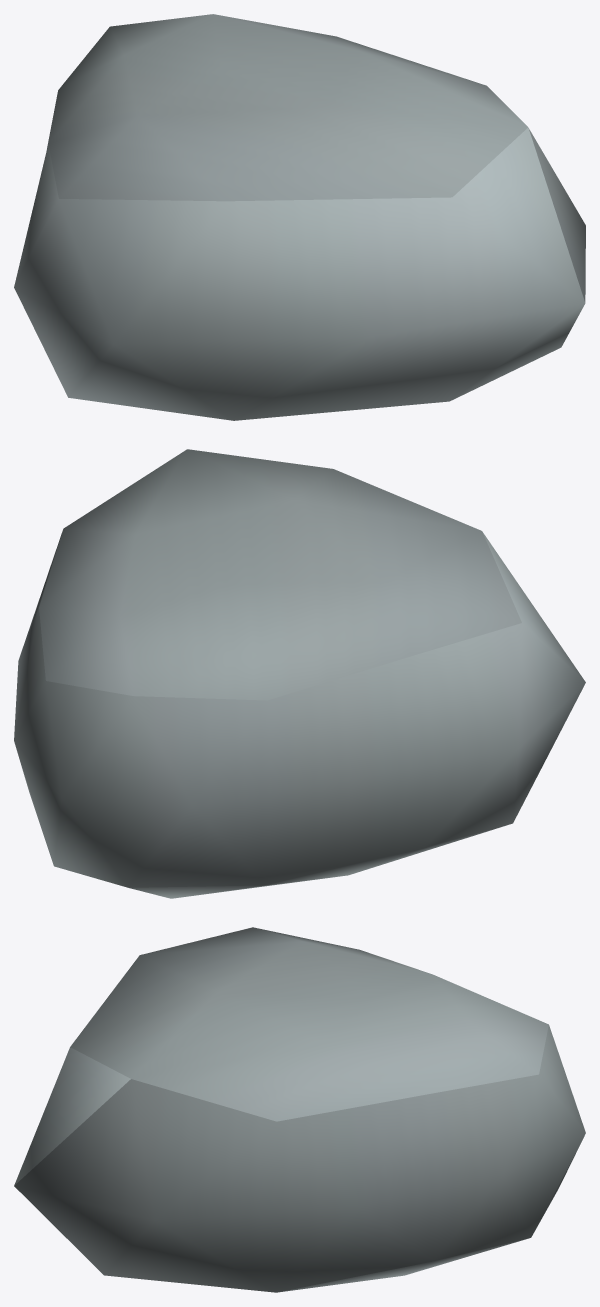
Rendered from Small_Rock_1.fbx.
The picture shows the model from 3 angles, top to bottom: view 1: azimuth 30°, elevation 25°; view 2: azimuth 150°, elevation 25°; view 3: azimuth 270°, elevation 25°; orthographic projection. The views are drawn at different scales.
Parts seen in each view (by area): view 1: Small Rock 1; view 2: Small Rock 1; view 3: Small Rock 1.
Part boxes in pixels (x1,y1,x2,y2): Small Rock 1: (14,14,585,420); Small Rock 1: (14,449,585,898); Small Rock 1: (14,927,585,1292).
Size of the model in its own units: 69.44 by 38.36 by 78.9.
